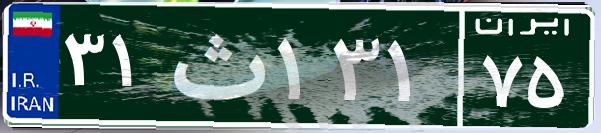1: (385, 28, 445, 110), (273, 28, 330, 110), (110, 28, 158, 105)
3: (330, 28, 385, 110), (57, 26, 110, 107)
5: (525, 38, 570, 115)
7: (475, 38, 525, 113)
ث: (158, 15, 273, 115)
